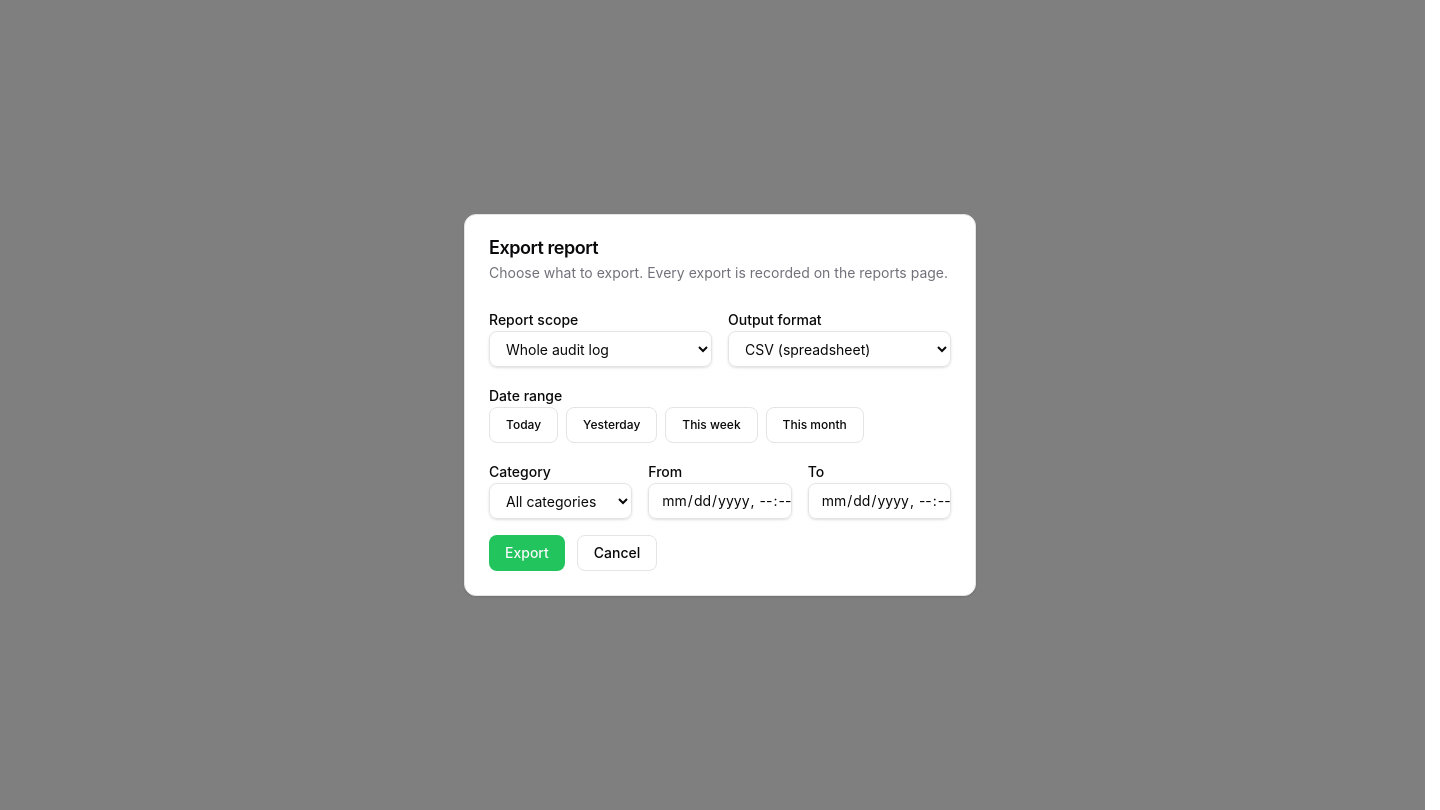
ExportDialog › shows the size error returned by the API
Click the button "Today": (524, 425) [489,407,558,443]
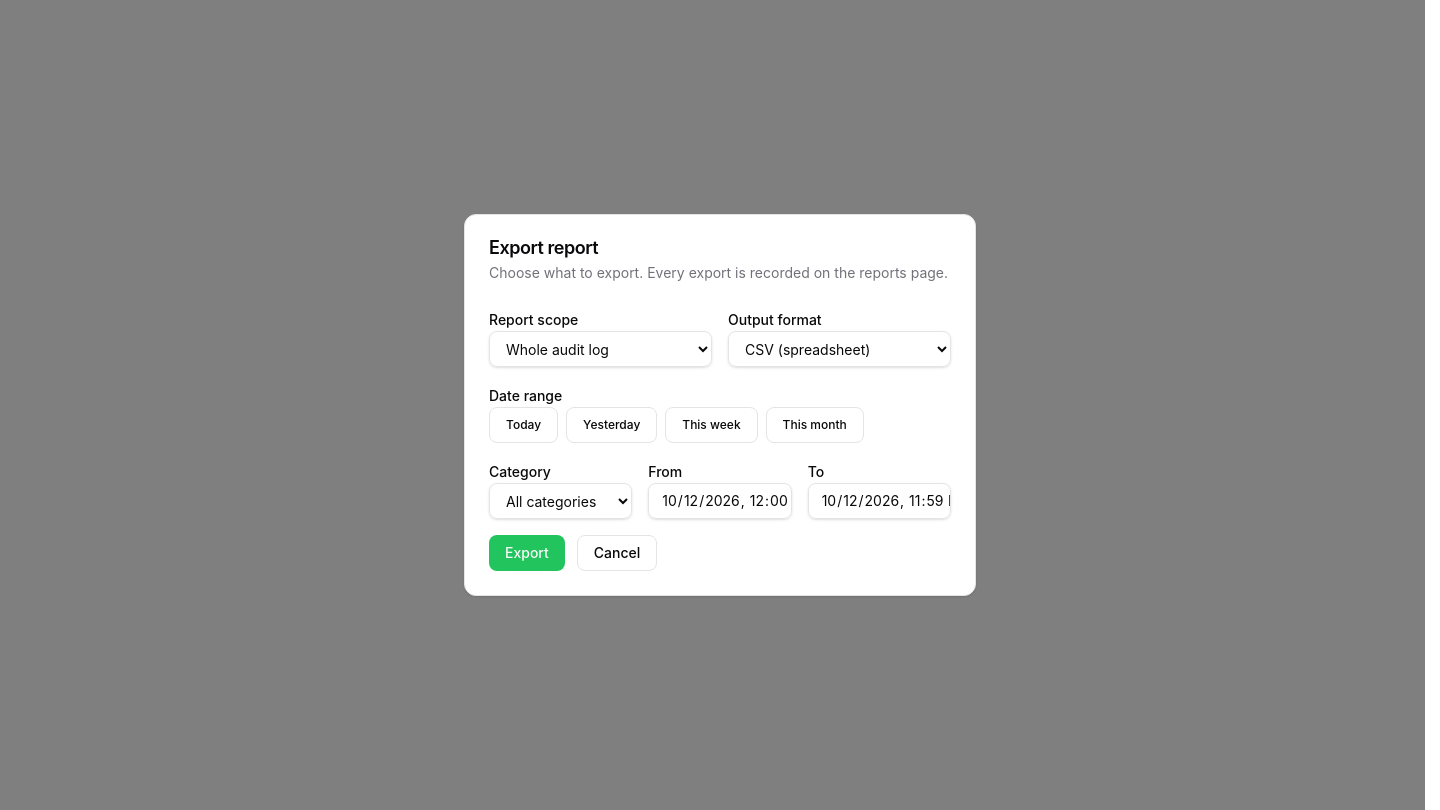
Click the button "Export": (527, 553) [489,535,565,571]
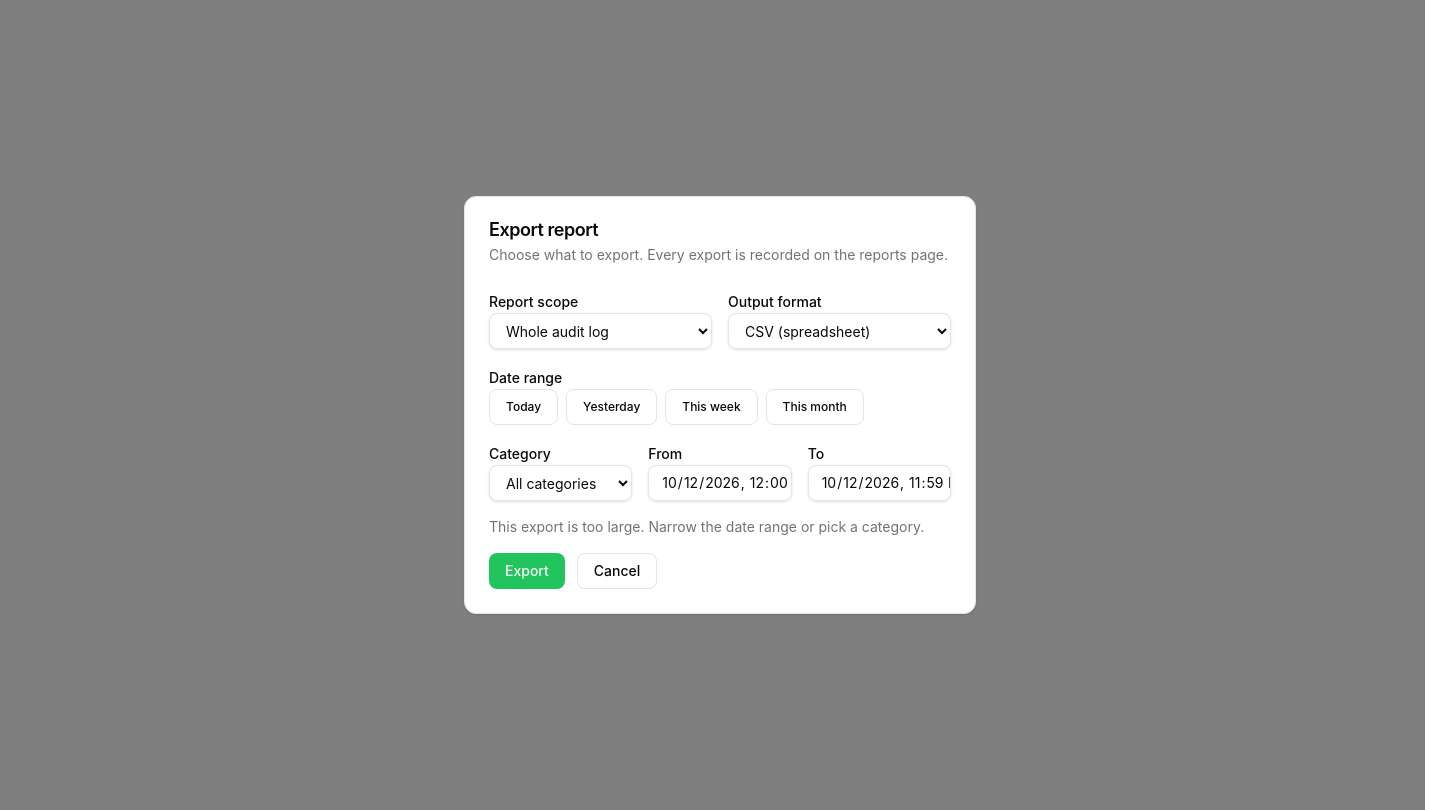
Expected: the text "This export is too large. Narrow the date range or pick a category." is shown, [489,517,951,537]
